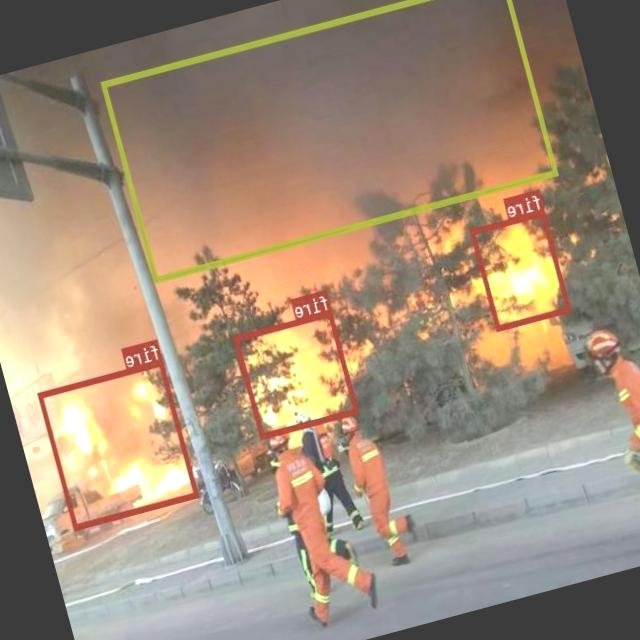fire: (38, 358, 199, 529), (234, 308, 360, 439), (471, 208, 572, 328)
smoke: (101, 0, 558, 282)
